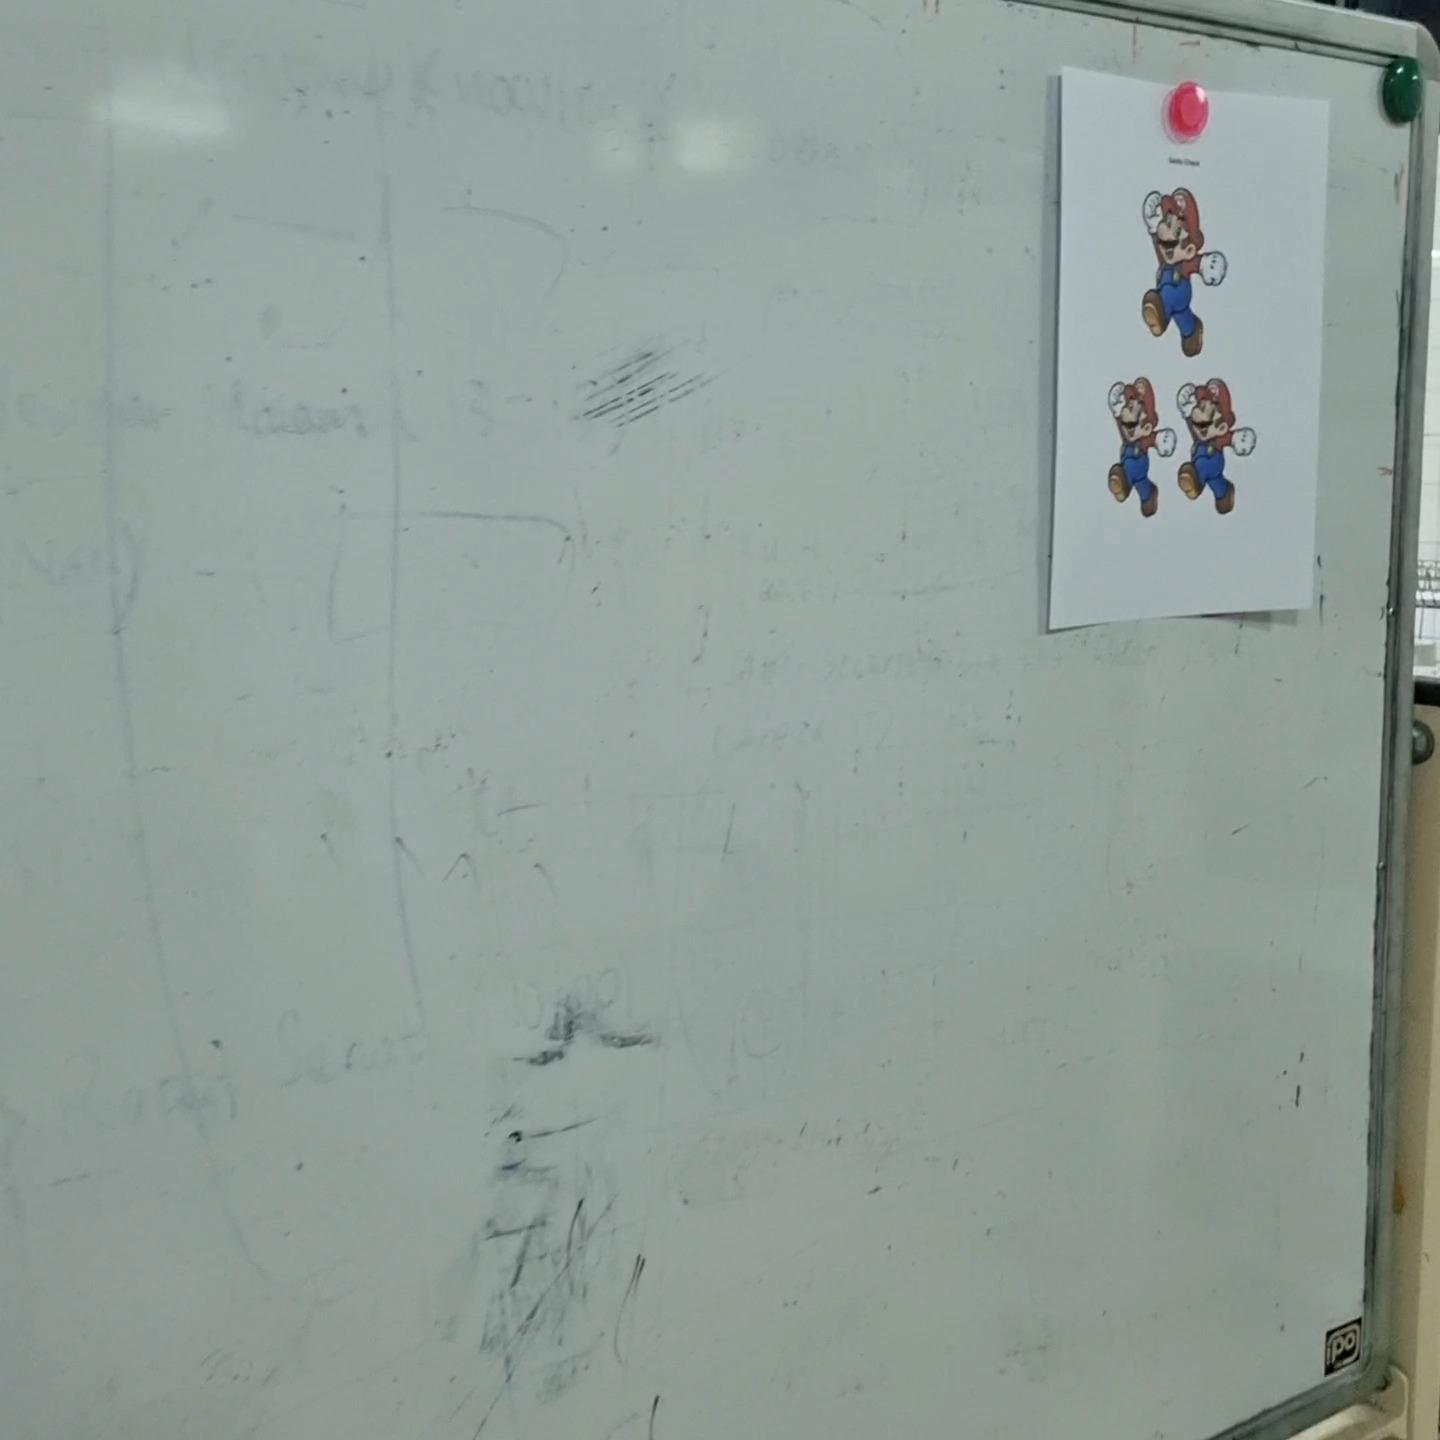mario: (1134, 181, 1233, 361), (1175, 376, 1263, 521), (1101, 371, 1178, 517)
